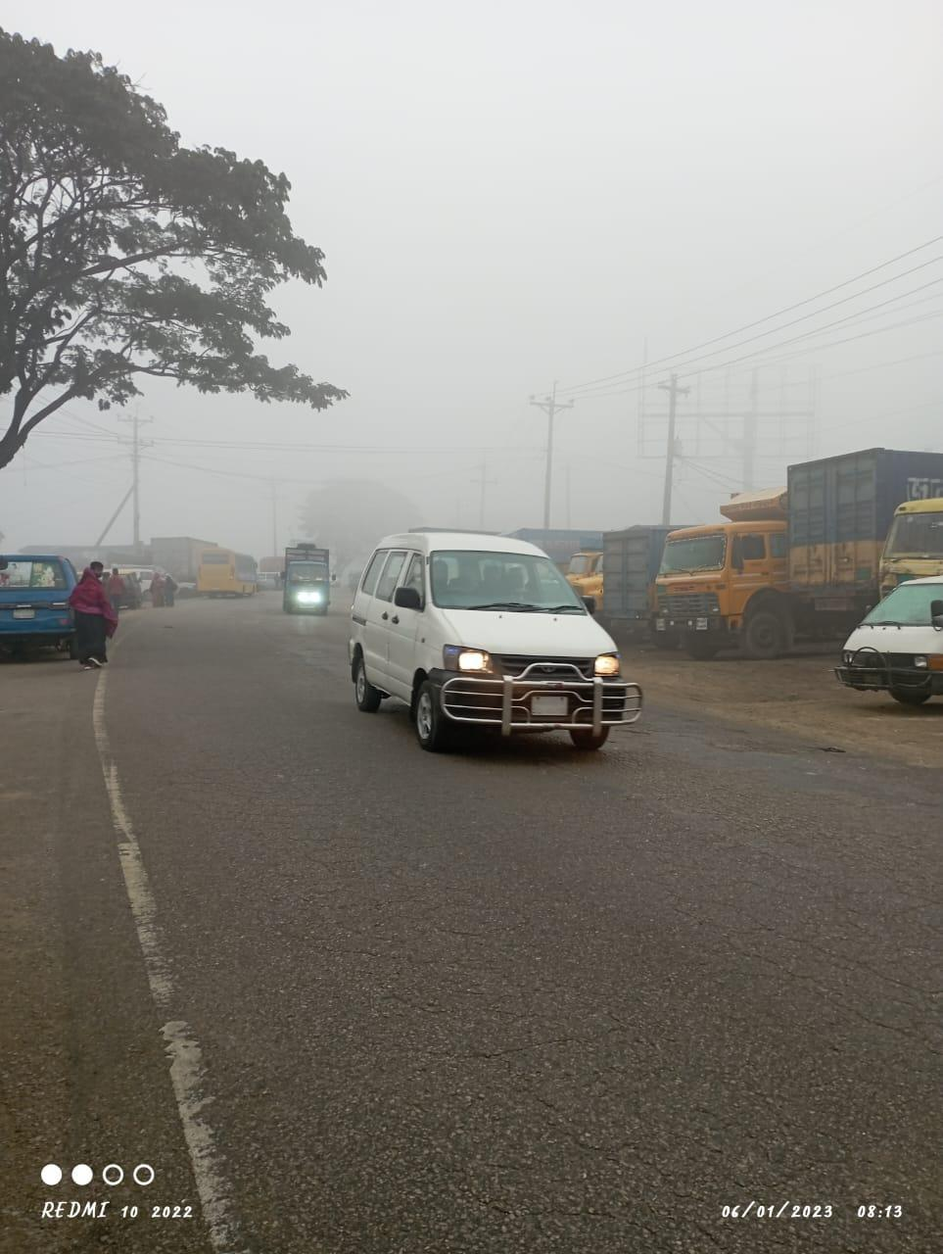Bus: (190, 541, 262, 604)
Car: (330, 518, 658, 760), (823, 565, 943, 725)
Truck: (647, 482, 785, 663), (779, 440, 915, 620), (3, 541, 89, 643), (264, 538, 343, 626)
